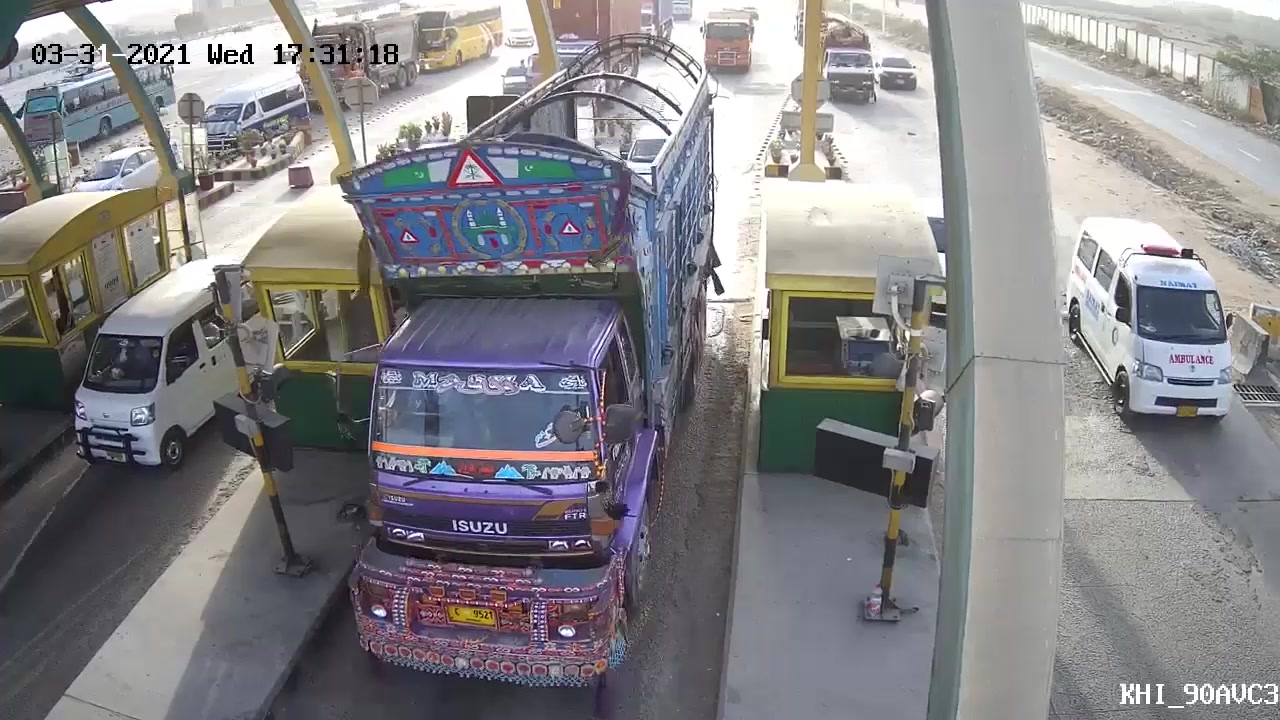F5: (342, 41, 721, 681)
